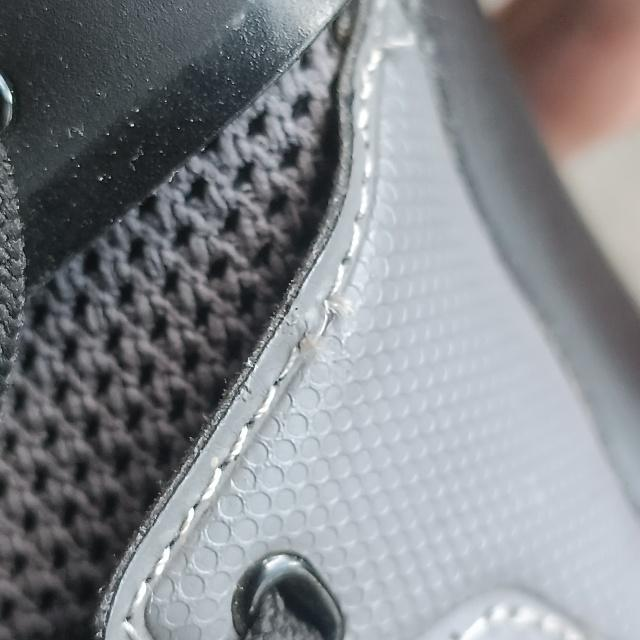broken: (294, 288, 348, 398)
